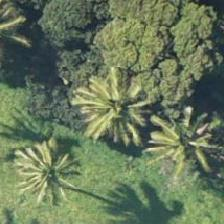coconut_tree: (134, 94, 223, 184)
